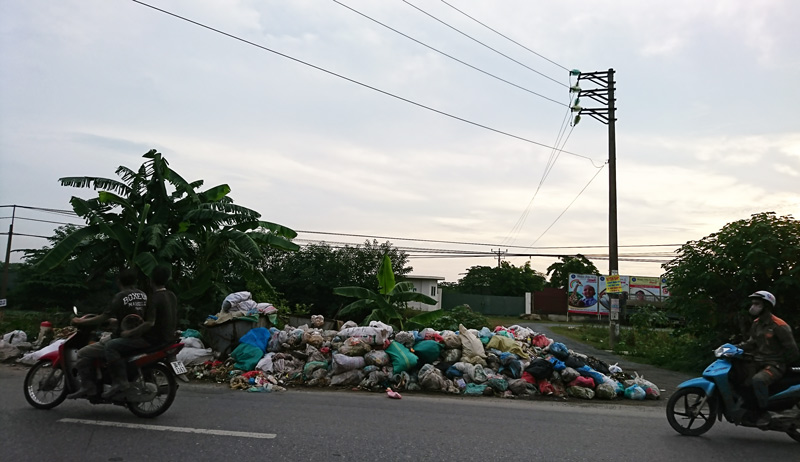plastic bag: (173, 288, 664, 403)
